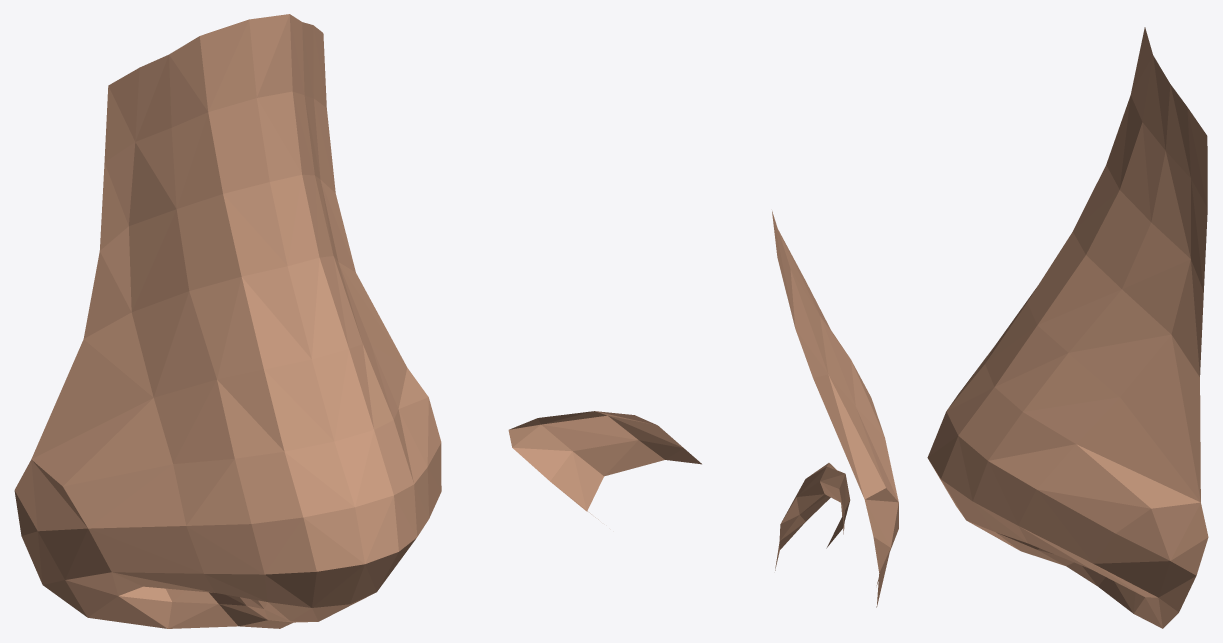
Rendered from 9AUcVMxZLCp.glb.
The picture shows the model from 3 angles, left to right: view 1: azimuth 30°, elevation 25°; view 2: azimuth 150°, elevation 25°; view 3: azimuth 270°, elevation 25°; orthographic projection. The views are drawn at different scales.
Visible parts, largest first — view 1: Node; view 2: Node; view 3: Node.
Part boxes in pixels (x1,y1,x2,y2): Node: (14, 14, 441, 628); Node: (508, 211, 898, 607); Node: (927, 27, 1208, 628).
Bounding box in the file's own units: 0.7163 × 1 × 0.4628.
